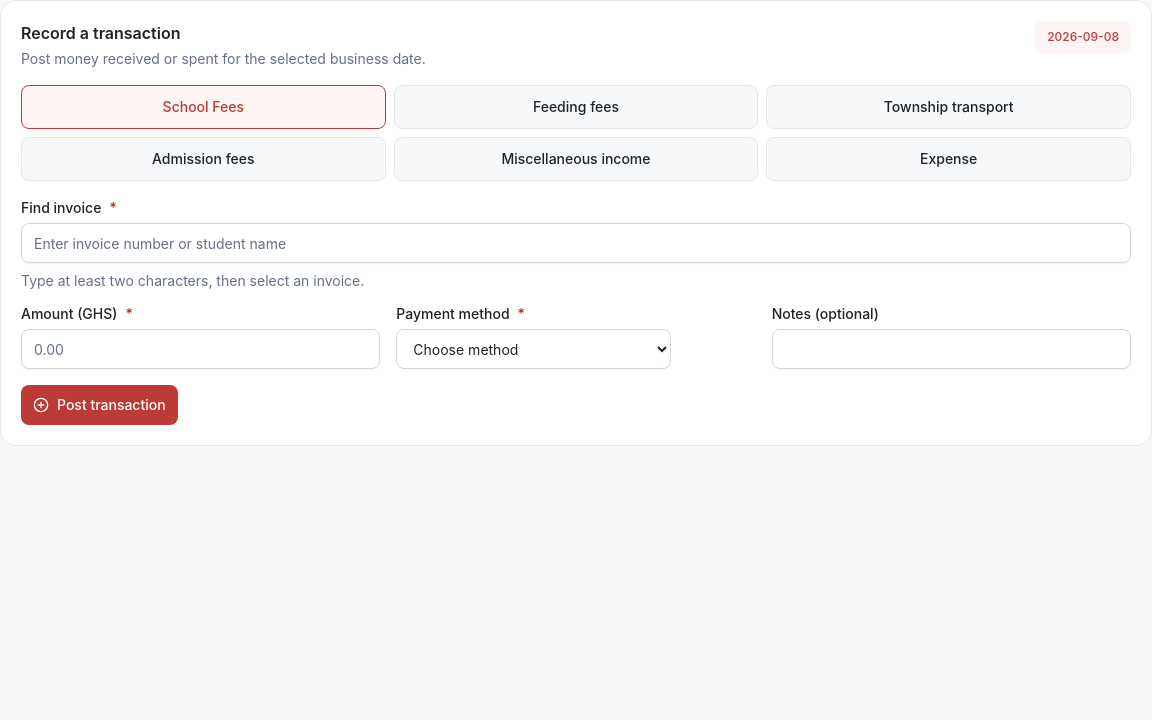
Test case: daily cashflow entry › shows the expected admission total before posting
This screenshot has width=1152, height=720.
Click the button "Admission fees".
click(203, 159)  # box [21,137,386,181]
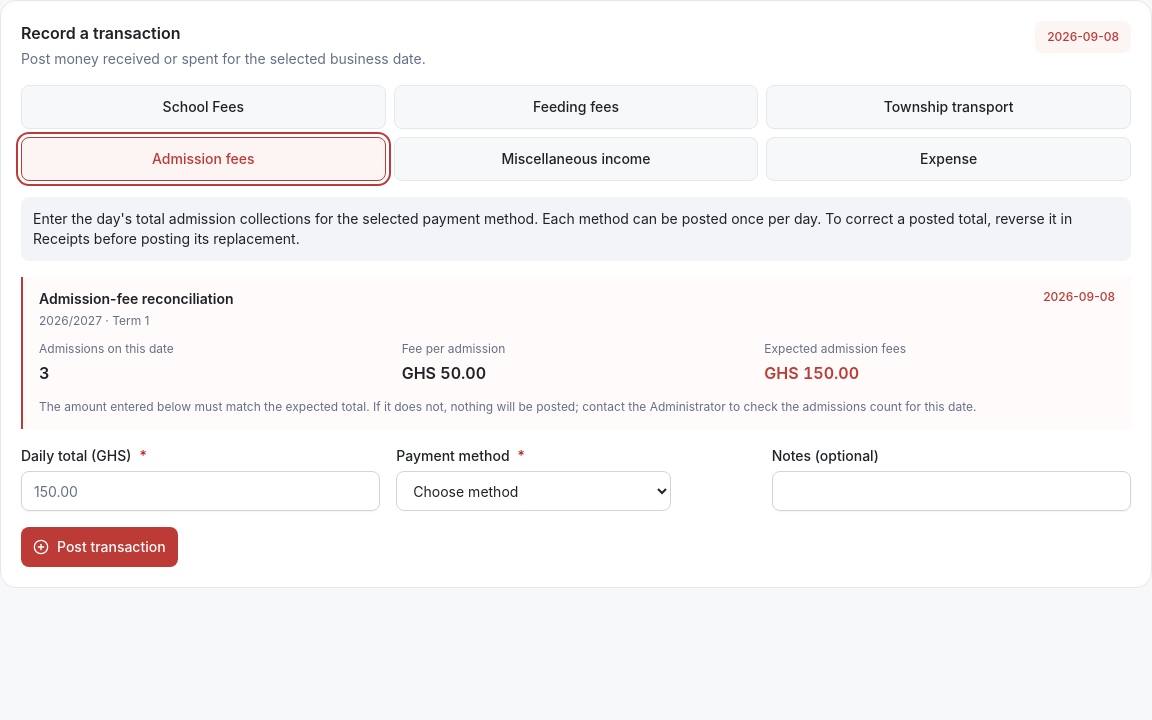
Expected: the text "3" is shown, [39,363,49,383]
Expected: the element showing "GHS 50.00" is shown, [402,363,486,383]
Expected: the element showing "GHS 150.00" is shown, [764,363,859,383]
